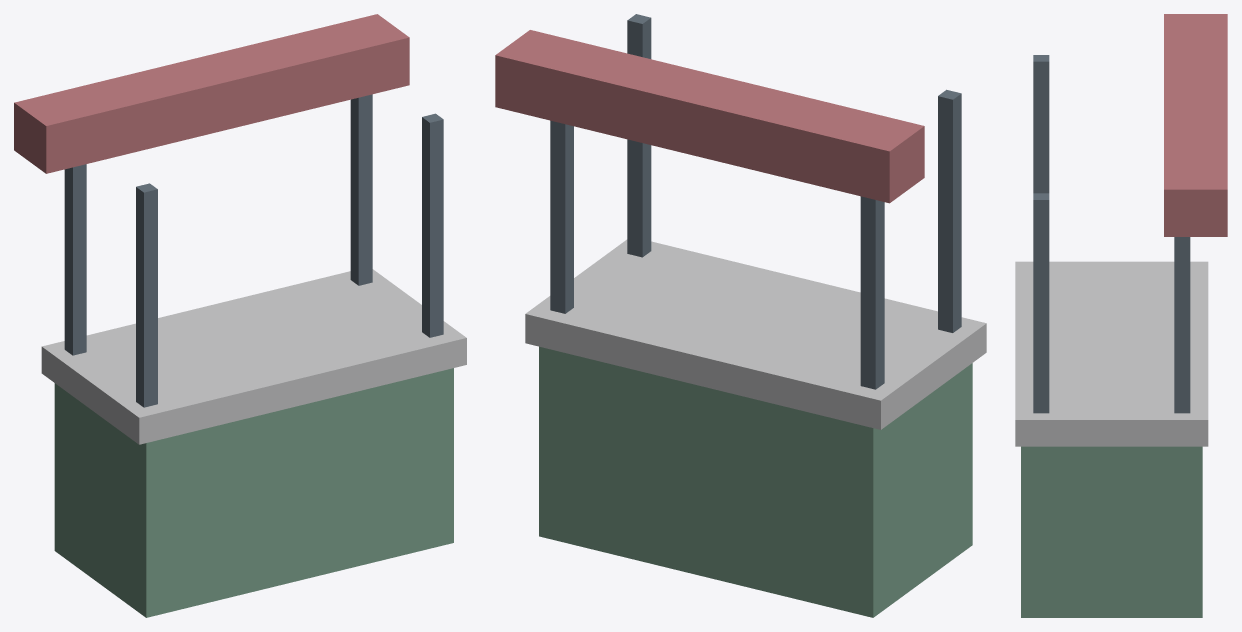
Rendered from puesto_de_comida.glb.
3 renders of one model, left to right at view 1: azimuth 30°, elevation 25°; view 2: azimuth 150°, elevation 25°; view 3: azimuth 270°, elevation 25°, orthographic. The views are drawn at different scales.
Visible parts, largest first — view 1: puesto_de_comida_01, puesto_de_comida_00, puesto_de_comida_02, puesto_de_comida_04, puesto_de_comida_06, puesto_de_comida_03, puesto_de_comida_05; view 2: puesto_de_comida_01, puesto_de_comida_00, puesto_de_comida_02, puesto_de_comida_04, puesto_de_comida_03, puesto_de_comida_05, puesto_de_comida_06; view 3: puesto_de_comida_00, puesto_de_comida_01, puesto_de_comida_02, puesto_de_comida_06, puesto_de_comida_05, puesto_de_comida_04.
Boxes of the visible parts, x1,y1,x2,y2 form: puesto_de_comida_01: [54, 368, 453, 617]; puesto_de_comida_00: [41, 269, 466, 444]; puesto_de_comida_02: [14, 14, 409, 173]; puesto_de_comida_04: [136, 183, 157, 407]; puesto_de_comida_06: [422, 113, 443, 337]; puesto_de_comida_03: [64, 164, 86, 355]; puesto_de_comida_05: [350, 94, 372, 285]; puesto_de_comida_01: [539, 346, 972, 617]; puesto_de_comida_00: [525, 239, 986, 429]; puesto_de_comida_02: [495, 30, 924, 203]; puesto_de_comida_04: [938, 89, 961, 332]; puesto_de_comida_03: [860, 196, 884, 389]; puesto_de_comida_05: [550, 120, 573, 313]; puesto_de_comida_06: [627, 14, 651, 257]; puesto_de_comida_00: [1015, 261, 1208, 446]; puesto_de_comida_01: [1021, 446, 1202, 617]; puesto_de_comida_02: [1164, 14, 1227, 236]; puesto_de_comida_06: [1033, 193, 1049, 413]; puesto_de_comida_05: [1174, 237, 1190, 413]; puesto_de_comida_04: [1033, 55, 1049, 193].
Size of the model in its own units: 1.83 by 2.14 by 0.935.
